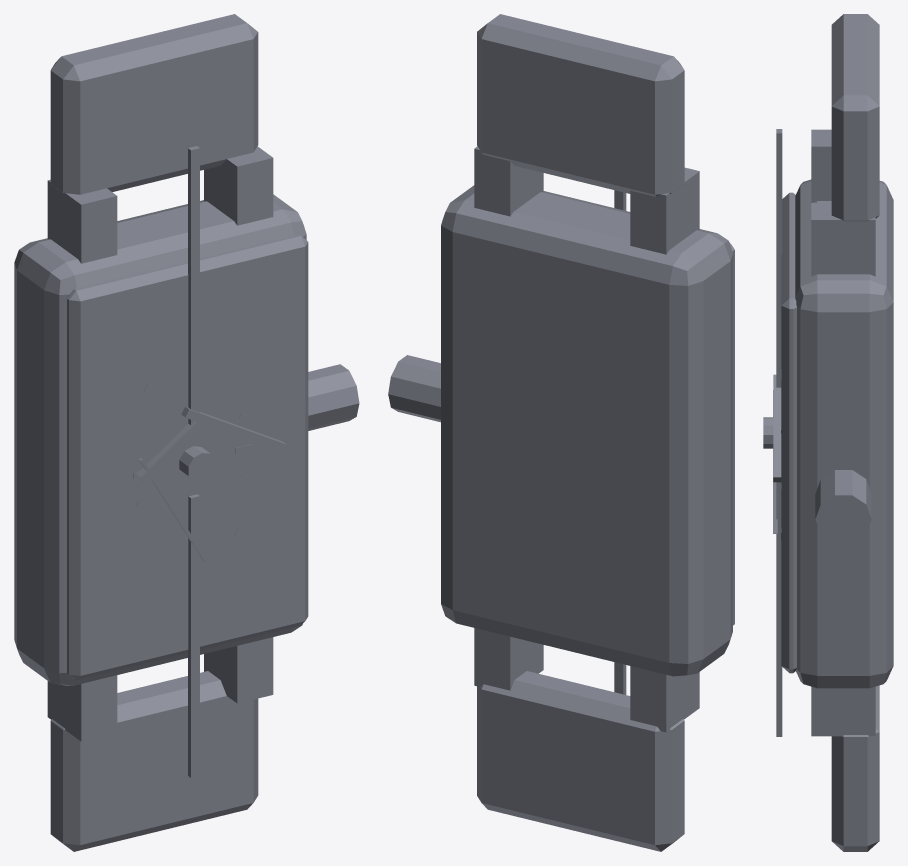
The model's file is rlj_reverso.fbx.
3 renders of one model, left to right at view 1: azimuth 30°, elevation 25°; view 2: azimuth 150°, elevation 25°; view 3: azimuth 270°, elevation 25°, orthographic. The views are drawn at different scales.
Parts seen in each view (by area): view 1: Caja__metal_plata, Caja__cuero_correa, Caja__metal_acero, Manecillas__esmalte_azul, Esfera__esmalte_negro; view 2: Caja__metal_acero, Caja__cuero_correa, Caja__metal_plata; view 3: Caja__metal_acero, Caja__cuero_correa, Caja__metal_plata, Manecillas__esmalte_azul.
Boxes of the visible parts, left/top/right/bottom form: Caja__metal_plata: left=67, top=146, right=308, bottom=777; Caja__cuero_correa: left=50, top=14, right=258, bottom=851; Caja__metal_acero: left=14, top=146, right=359, bottom=741; Manecillas__esmalte_azul: left=136, top=406, right=286, bottom=562; Esfera__esmalte_negro: left=133, top=362, right=252, bottom=560; Caja__metal_acero: left=388, top=146, right=732, bottom=732; Caja__cuero_correa: left=477, top=14, right=684, bottom=851; Caja__metal_plata: left=614, top=190, right=734, bottom=694; Caja__metal_acero: left=795, top=129, right=893, bottom=736; Caja__cuero_correa: left=831, top=14, right=879, bottom=851; Caja__metal_plata: left=776, top=129, right=796, bottom=736; Manecillas__esmalte_azul: left=763, top=374, right=781, bottom=533.
Bounding box in the file's own units: 87 × 208 × 32.5.
